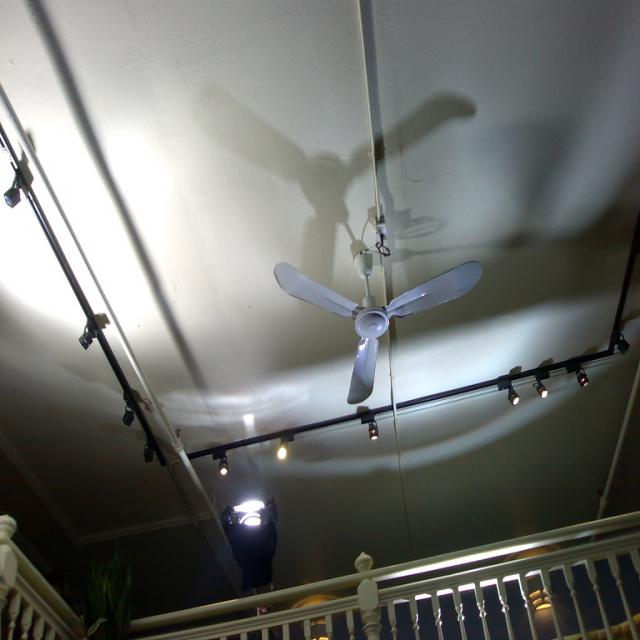Bulb: (276, 250, 482, 404)
